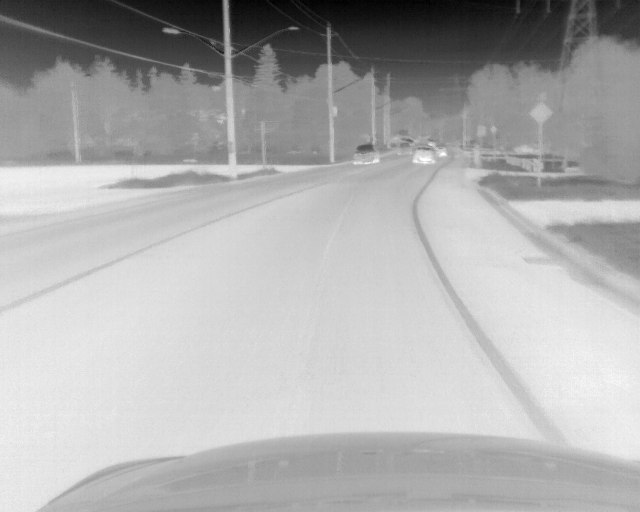car: (353, 144, 379, 165), (412, 145, 435, 165), (394, 137, 411, 155), (435, 145, 447, 158)
